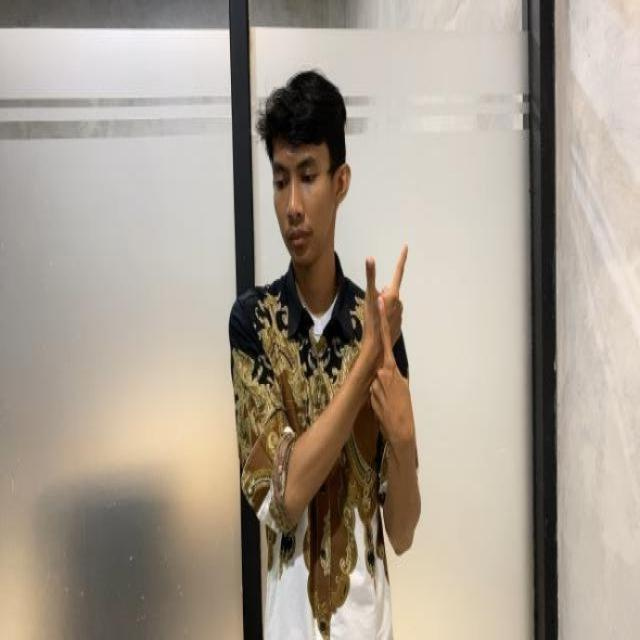Y: (348, 232, 423, 430)
